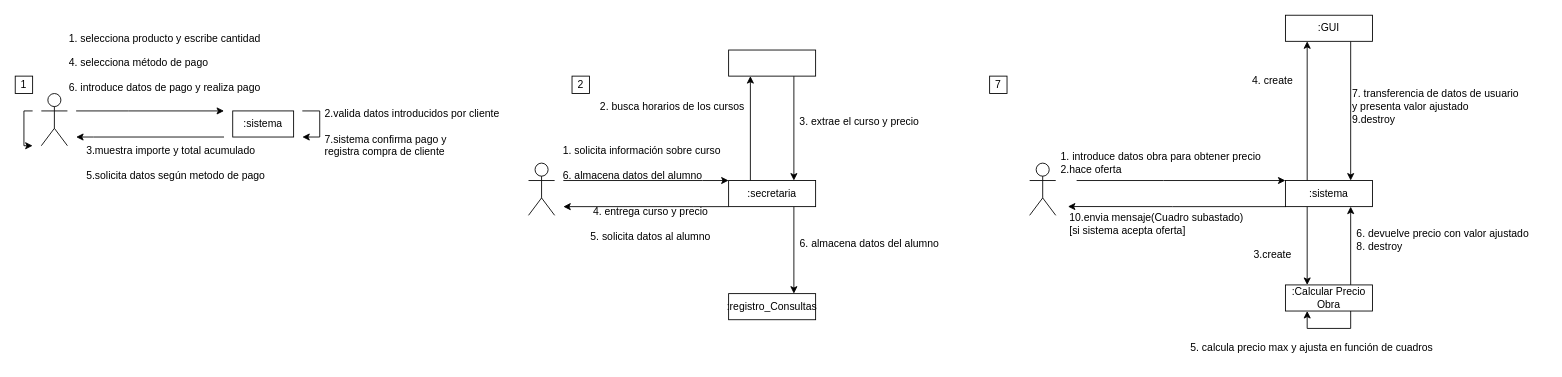
The diagram is 1562 pixels wide and 377 high, and some of its shapes have lost their labels. Here are the shapes that lost their labels. From the top down, the centre of each, then its label:
At pixel 772 62: ":horario_curso".
At pixel 53 119: "cliente".
At pixel 541 188: "alumno".
At pixel 1042 188: "empleado".
